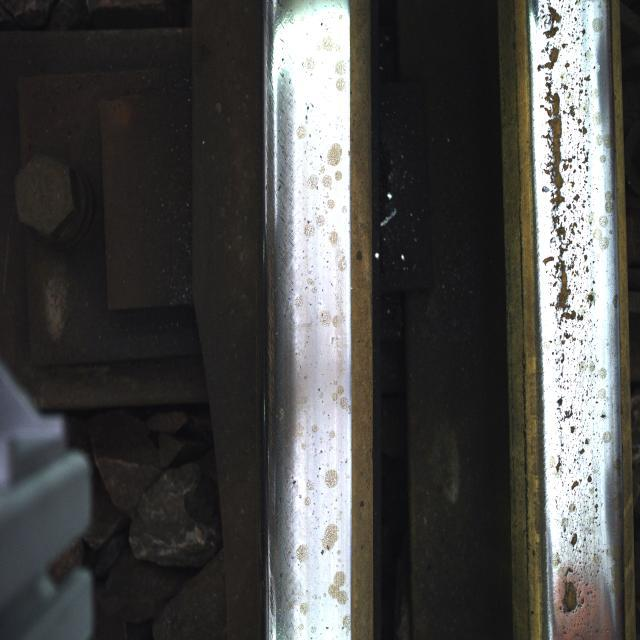scar: (291, 43, 355, 612), (536, 0, 612, 340), (554, 398, 604, 632)
